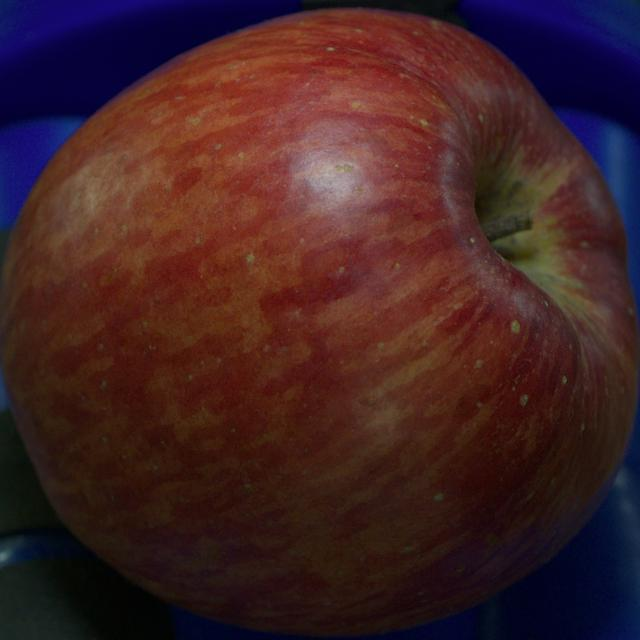apple: (0, 9, 639, 635)
